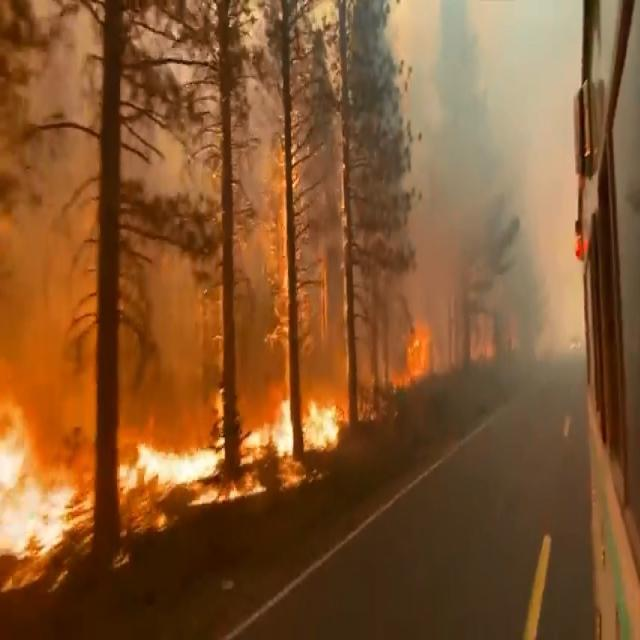Fire: (1, 210, 432, 568)
